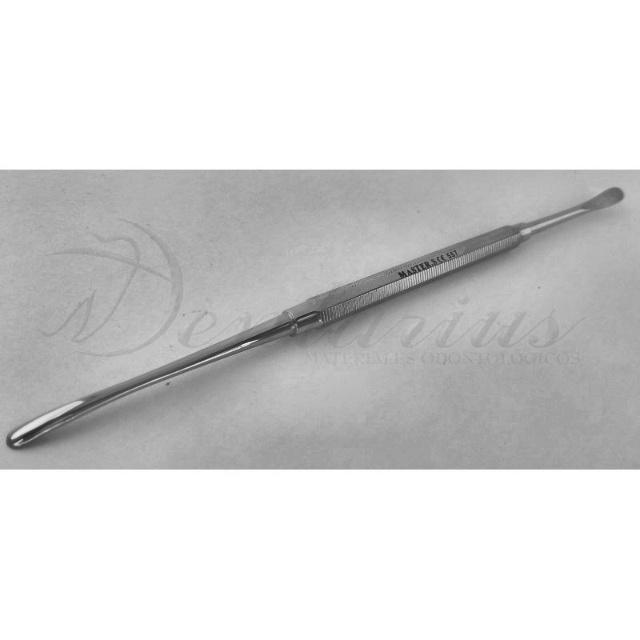elevador: (7, 188, 626, 453)
